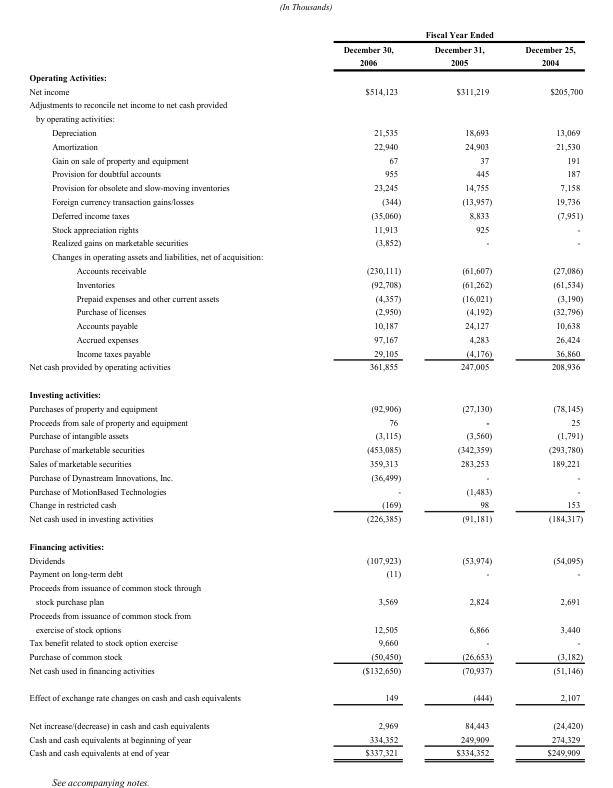table: (28, 28, 582, 757)
table column: (28, 28, 291, 757), (291, 28, 416, 757), (416, 28, 507, 757), (507, 28, 582, 757)
table column header: (28, 28, 582, 69)
table projected row header: (28, 531, 582, 552), (28, 380, 582, 400), (28, 69, 582, 83), (28, 97, 582, 111), (28, 111, 582, 125), (28, 249, 582, 263), (28, 580, 582, 594), (28, 607, 582, 621)
table row: (28, 41, 582, 69), (28, 683, 582, 711), (28, 359, 582, 380), (28, 531, 582, 552), (28, 662, 582, 683), (28, 380, 582, 400), (28, 511, 582, 531), (28, 711, 582, 731), (28, 69, 582, 83), (28, 83, 582, 97), (28, 97, 582, 111), (28, 111, 582, 125), (28, 138, 582, 152), (28, 152, 582, 166), (28, 166, 582, 180), (28, 180, 582, 194), (28, 207, 582, 221), (28, 221, 582, 235), (28, 235, 582, 249), (28, 249, 582, 263), (28, 276, 582, 290), (28, 290, 582, 304), (28, 304, 582, 318), (28, 331, 582, 345), (28, 345, 582, 359), (28, 400, 582, 414), (28, 414, 582, 428), (28, 428, 582, 442), (28, 442, 582, 456), (28, 469, 582, 483), (28, 483, 582, 497), (28, 497, 582, 511), (28, 552, 582, 566), (28, 566, 582, 580), (28, 580, 582, 594), (28, 607, 582, 621), (28, 621, 582, 635), (28, 635, 582, 649), (28, 731, 582, 745), (28, 28, 582, 41), (28, 125, 582, 138), (28, 194, 582, 207), (28, 263, 582, 276), (28, 318, 582, 331), (28, 456, 582, 469), (28, 594, 582, 607), (28, 649, 582, 662), (28, 745, 582, 757)
table spanning cell: (291, 28, 582, 41)
